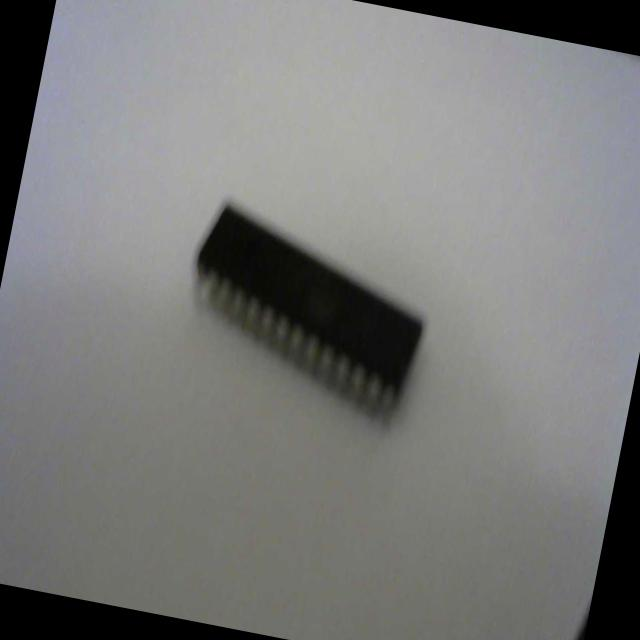atmega: (169, 191, 444, 432)
